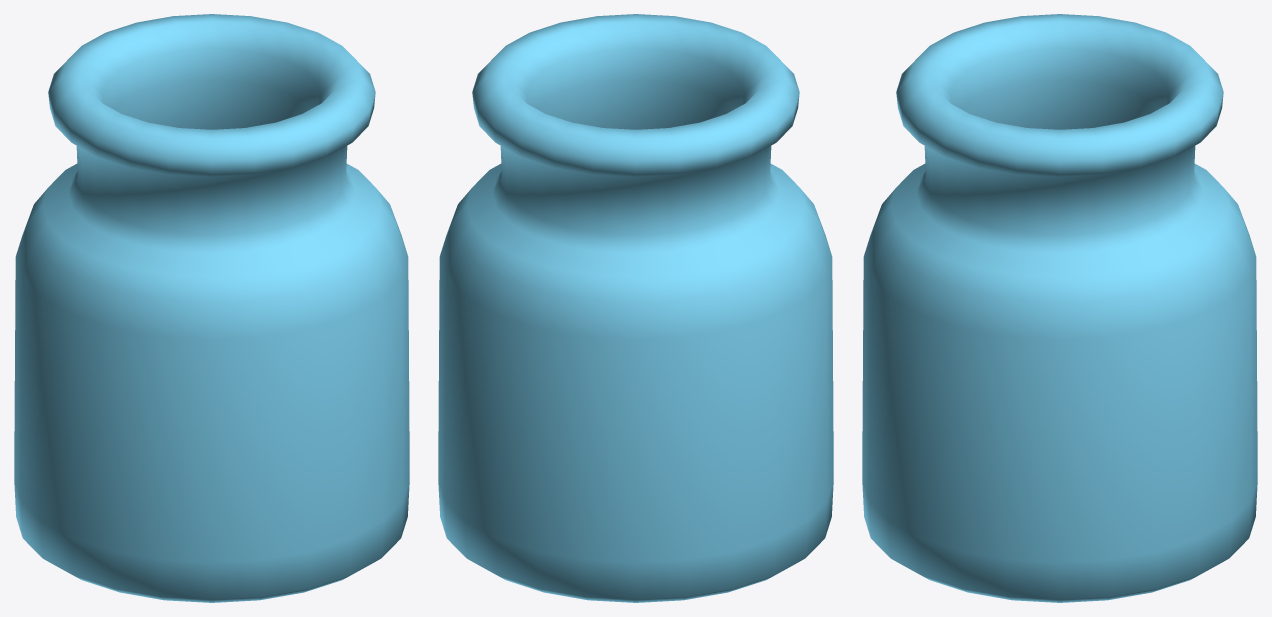
Rendered from Flask, Cylindrical, Wide Mouth.fbx.
3 renders of one model, left to right at view 1: azimuth 30°, elevation 25°; view 2: azimuth 150°, elevation 25°; view 3: azimuth 270°, elevation 25°, orthographic.
Parts seen in each view (by area): view 1: Flask, Cylindrical, Wide Mouth_LOD0; view 2: Flask, Cylindrical, Wide Mouth_LOD0; view 3: Flask, Cylindrical, Wide Mouth_LOD0.
Part boxes in pixels (<box>): Flask, Cylindrical, Wide Mouth_LOD0: <box>14,14,409,602</box>; Flask, Cylindrical, Wide Mouth_LOD0: <box>438,14,833,602</box>; Flask, Cylindrical, Wide Mouth_LOD0: <box>862,14,1257,602</box>.
Size of what is drawn, in the model's own units: 0.4261 by 0.5355 by 0.4261.
